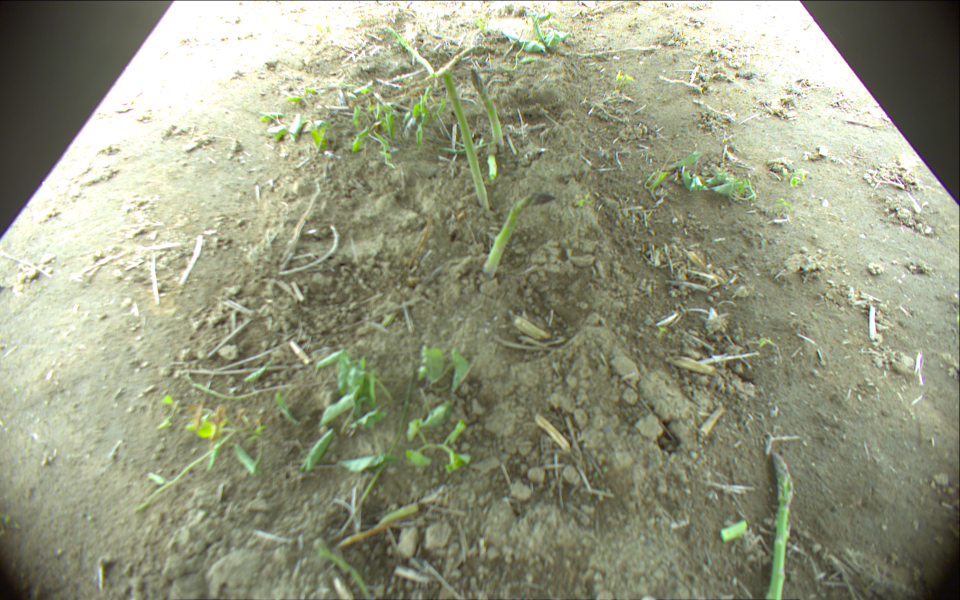aspa: (479, 193, 557, 280), (442, 72, 489, 211), (765, 450, 796, 600), (385, 25, 435, 77), (471, 70, 505, 146), (434, 45, 499, 79)
